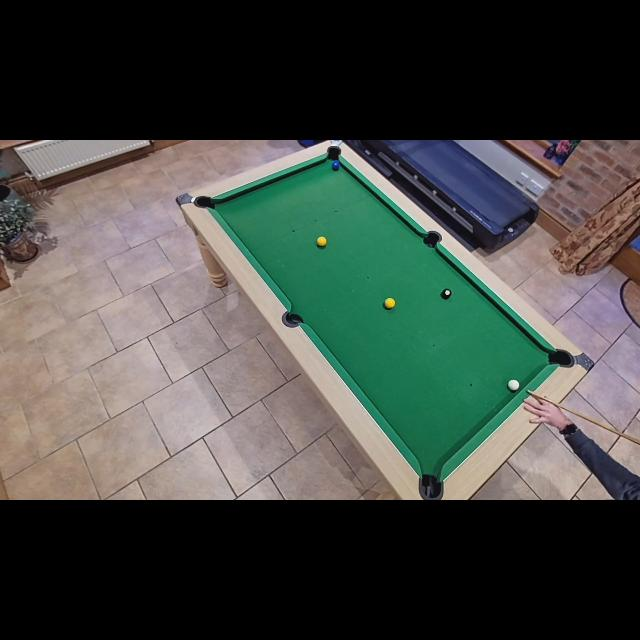Ball: (508, 380, 520, 390), (317, 237, 327, 247), (442, 288, 452, 298), (385, 298, 395, 308), (332, 162, 341, 170)
